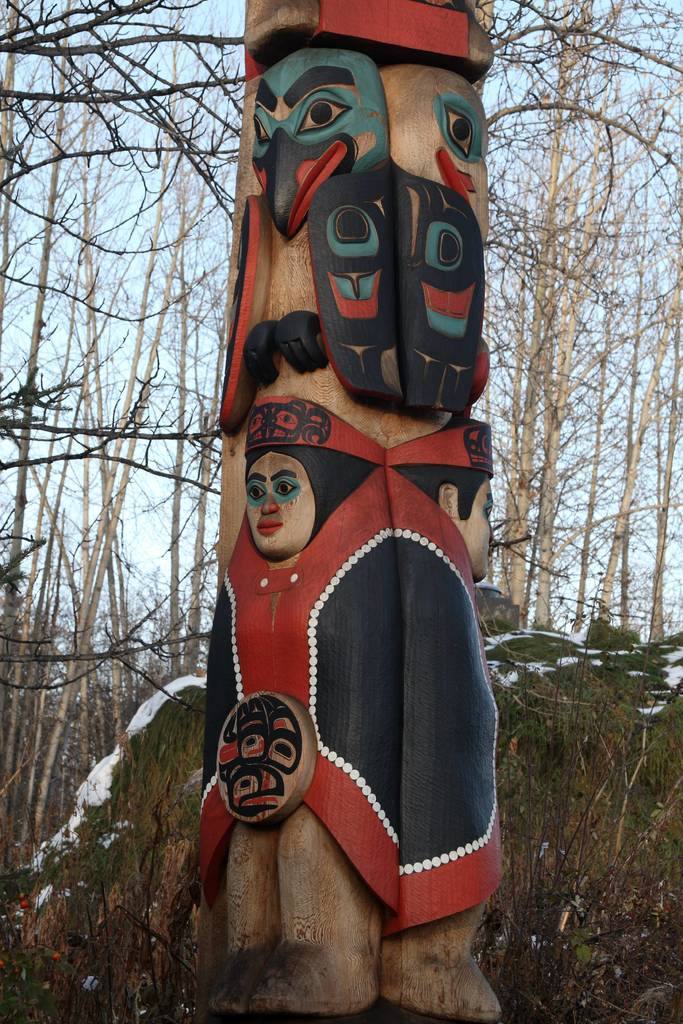Tree: (0, 0, 242, 869), (486, 0, 683, 643)
